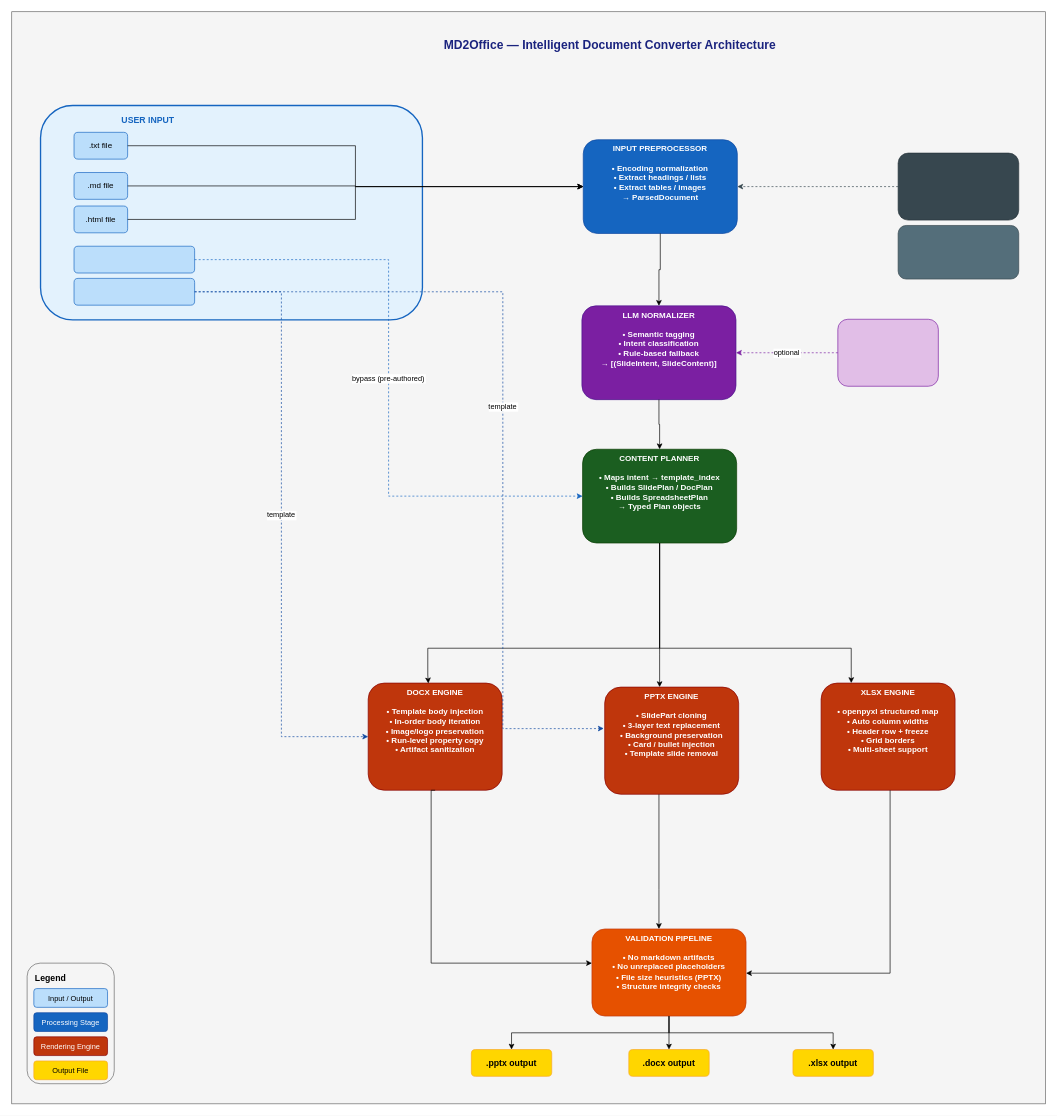
Some shapes in this 1057 by 1116 pixel diagram are drawn without their labels. The shapes that lost their labels are listed below. From the top down, each one's box as (x1, y1, x2, y2) in pixels, then its label:
(897, 152, 1019, 220): CLI (Typer) md2office convert md2office analyze
(73, 246, 195, 273): slides.md (optional)
(897, 225, 1019, 279): CONFIG default_rules.yaml llm_config.yaml
(73, 278, 195, 305): Template (.pptx / .docx)
(837, 319, 938, 386): LLM PROVIDERS Ollama / OpenAI Claude / Groq OpenRouter
